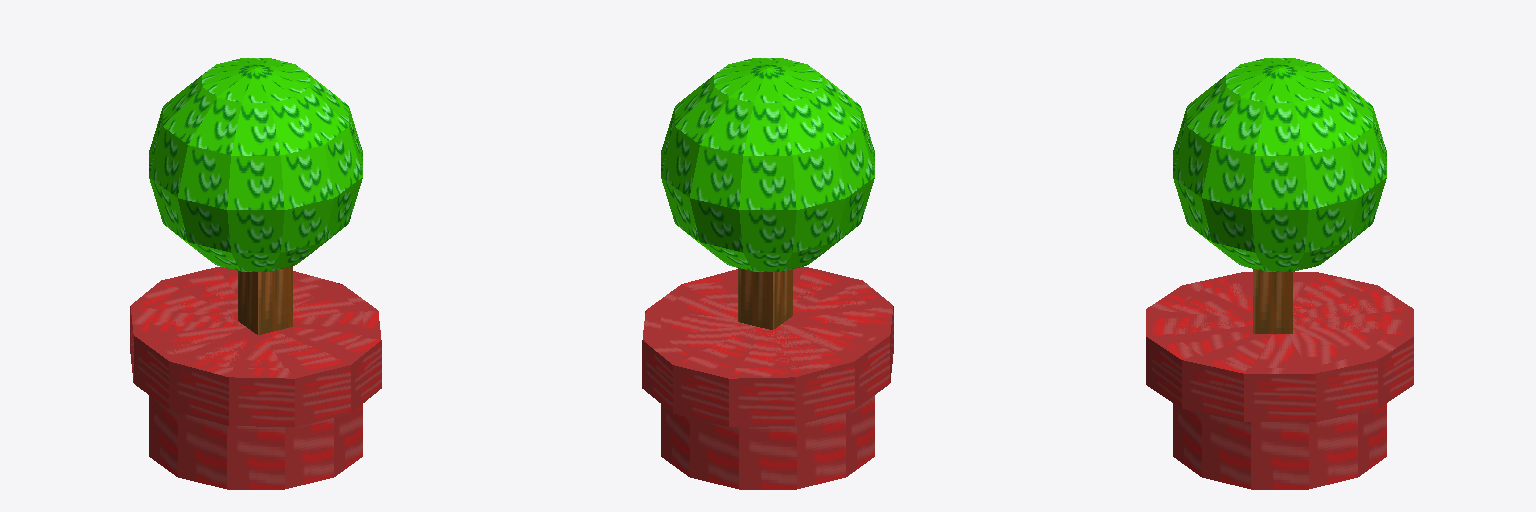
3 views of the same model, side by side, from view 1: azimuth 30°, elevation 25°; view 2: azimuth 150°, elevation 25°; view 3: azimuth 270°, elevation 25° (orthographic).
Visible parts, largest first — view 1: cylinder, sphere, cube; view 2: cylinder, sphere, cube; view 3: cylinder, sphere, cube.
Boxes of the visible parts, x1=… form: cylinder: x1=130, y1=267, x2=381, y2=489; sphere: x1=149, y1=58, x2=362, y2=271; cube: x1=238, y1=266, x2=292, y2=334; cylinder: x1=642, y1=267, x2=893, y2=489; sphere: x1=661, y1=58, x2=874, y2=271; cube: x1=738, y1=268, x2=792, y2=329; cylinder: x1=1146, y1=272, x2=1413, y2=489; sphere: x1=1173, y1=58, x2=1386, y2=271; cube: x1=1253, y1=269, x2=1292, y2=333.
Size of the model in its own units: 1.12 by 1.94 by 1.25.
Materials: 1 (1 with a texture image).